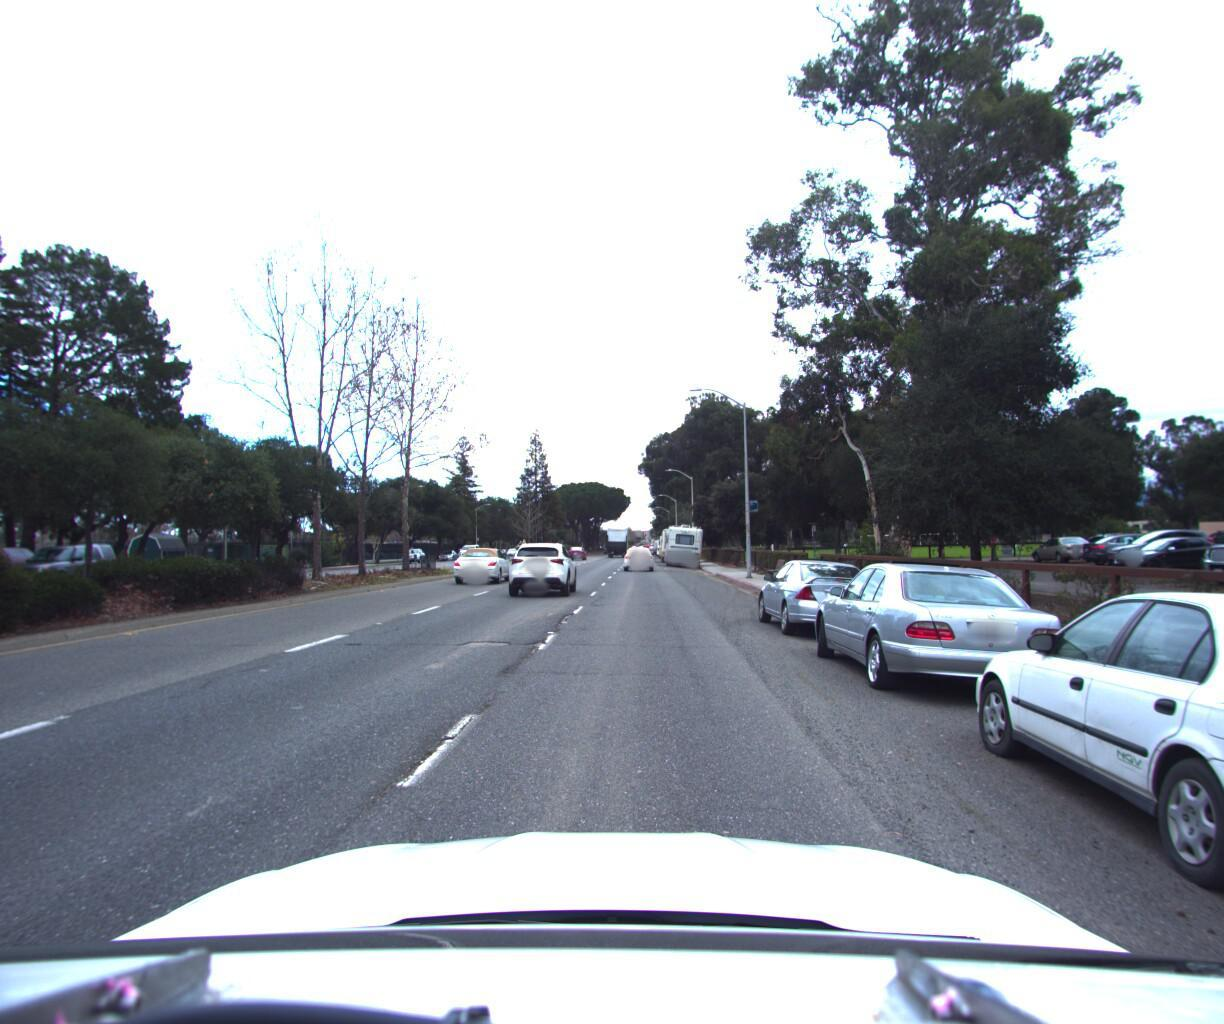car: (938, 569, 1224, 1005), (805, 550, 1089, 718), (754, 550, 899, 644), (1, 540, 129, 589), (504, 538, 580, 593), (0, 544, 53, 603), (449, 542, 514, 584), (624, 540, 655, 567), (565, 540, 585, 555)
other_vehicle: (662, 517, 703, 563), (659, 519, 691, 559)
